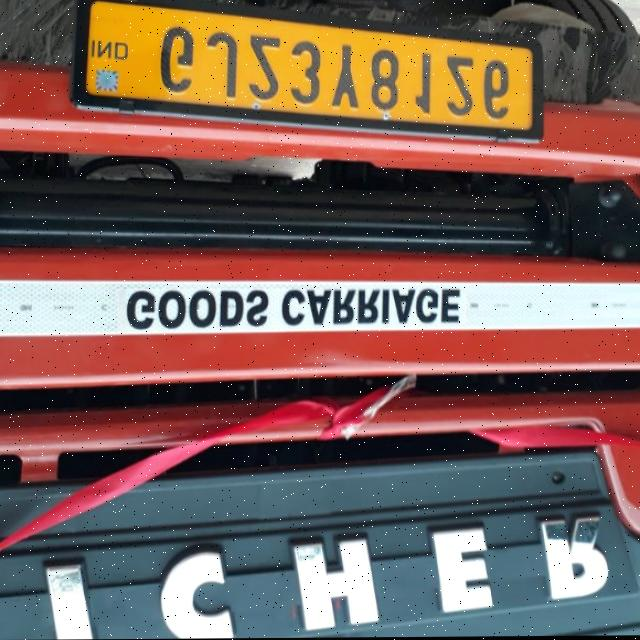plate: (68, 0, 542, 148)
